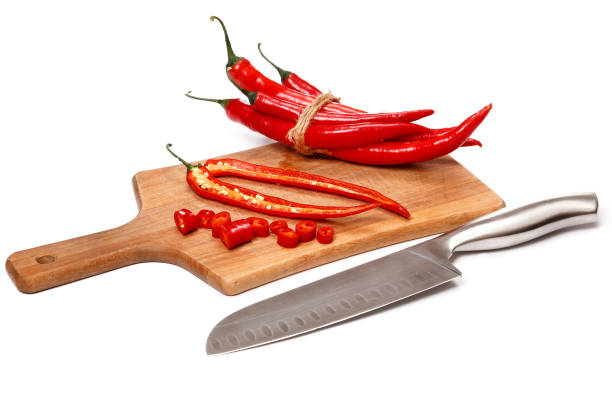knife: (204, 187, 601, 358)
